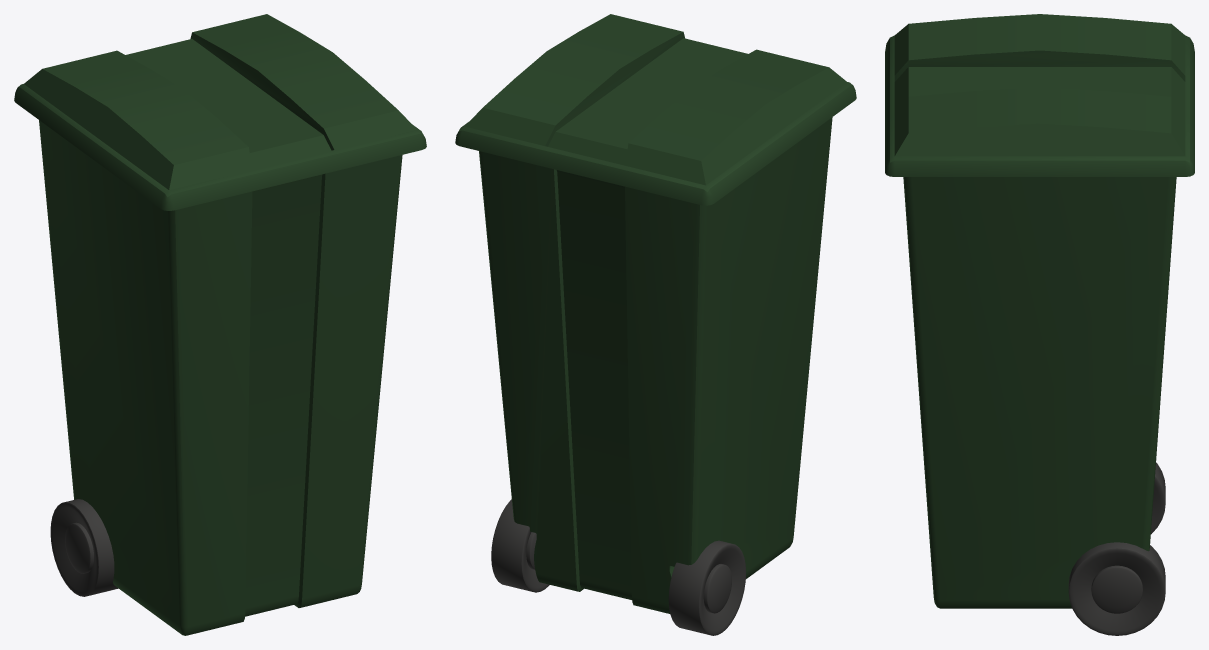
File: trash_box1.fbx
The picture shows the model from 3 angles, left to right: view 1: azimuth 30°, elevation 25°; view 2: azimuth 150°, elevation 25°; view 3: azimuth 270°, elevation 25°; orthographic projection. The views are drawn at different scales.
Parts seen in each view (by area): view 1: Trash_small; view 2: Trash_small; view 3: Trash_small.
Boxes of the visible parts, <box> form: Trash_small: <box>14,14,426,635</box>; Trash_small: <box>455,14,856,635</box>; Trash_small: <box>885,14,1194,635</box>.
Size of the model in its own units: 54.87 by 102 by 55.66.
